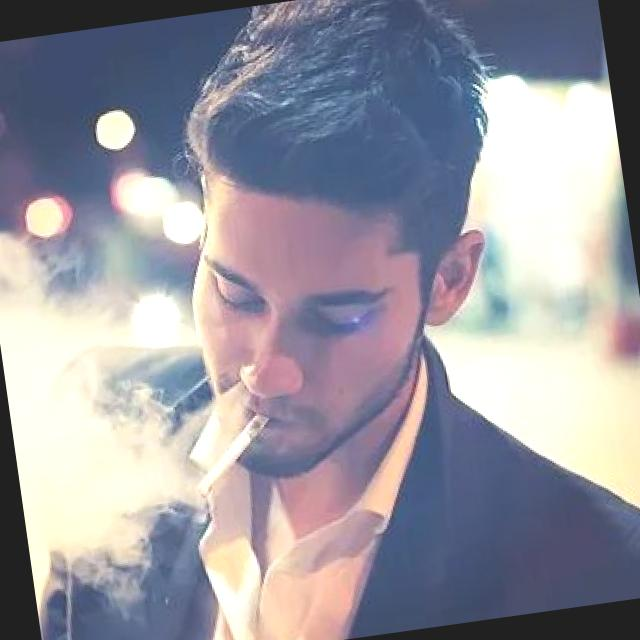cigarette: (185, 410, 282, 507)
